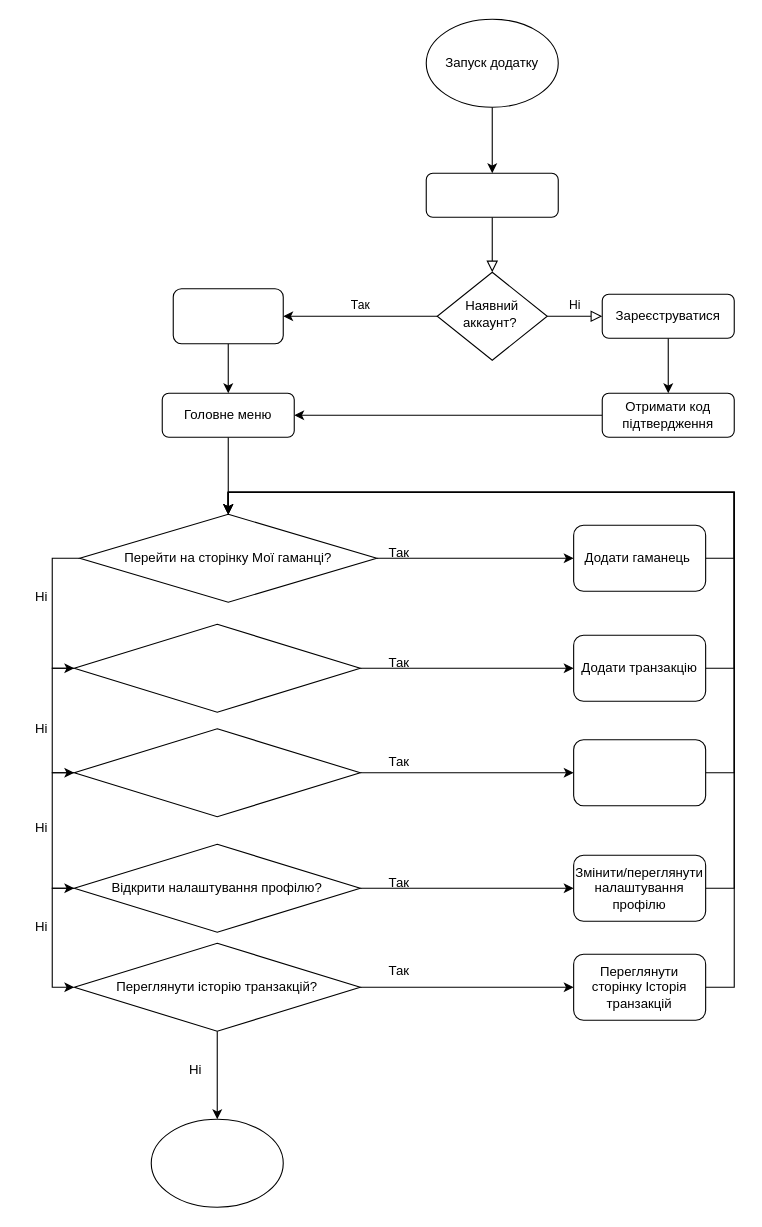
Some shapes in this 762 by 1227 pixel diagram are drawn without their labels. Each missing label, with the centre of its shape:
"Вхід у додаток" belongs at [491,194].
"Відкрити фільтри?" belongs at [216,772].
"Додати транзакцію?" belongs at [216,667].
"Закрити додаток" belongs at [216,1162].
"Знайти транзакцію за фільтром" belongs at [639,772].
"Увійти" belongs at [227,316].
